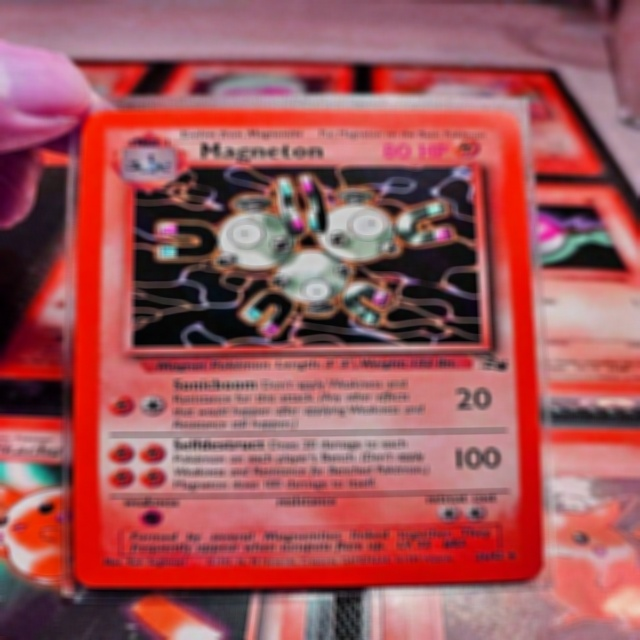card: (74, 109, 544, 589), (0, 414, 311, 640), (378, 426, 640, 640), (370, 65, 607, 177), (156, 61, 354, 95)
